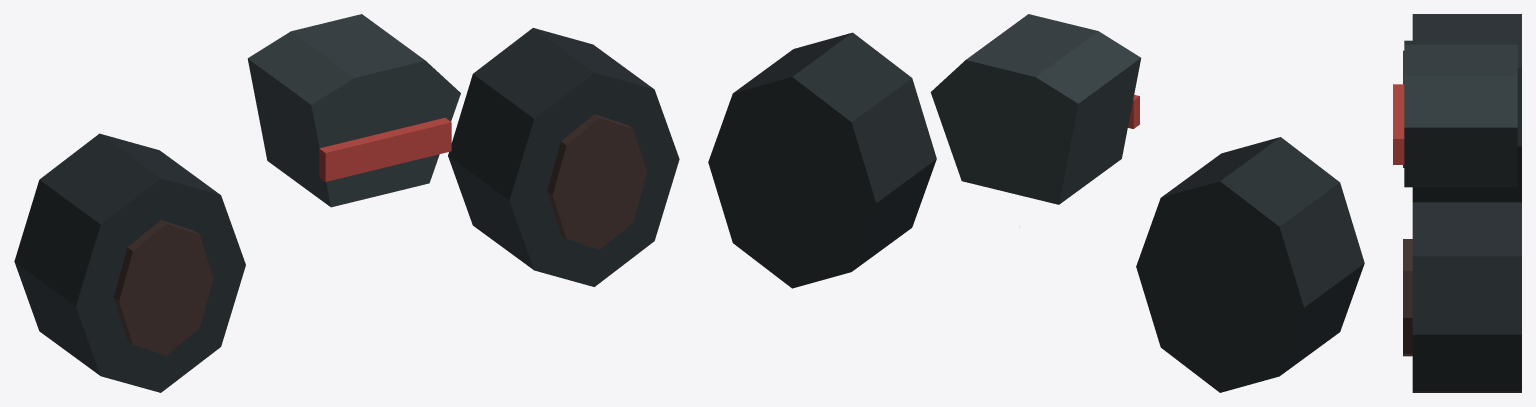
File: shusen_male_hair.glb
3 views of the same model, side by side, from view 1: azimuth 30°, elevation 25°; view 2: azimuth 150°, elevation 25°; view 3: azimuth 270°, elevation 25° (orthographic). The views are drawn at different scales.
Visible parts, largest first — view 1: Shusen_Export_Hair; view 2: Shusen_Export_Hair; view 3: Shusen_Export_Hair.
Boxes of the visible parts, <box> form: Shusen_Export_Hair: <box>14,14,679,392</box>; Shusen_Export_Hair: <box>708,14,1364,392</box>; Shusen_Export_Hair: <box>1393,14,1521,392</box>.
Bounding box in the file's own units: 0.766 × 0.33 × 0.159.
4 materials, 4 textured.
